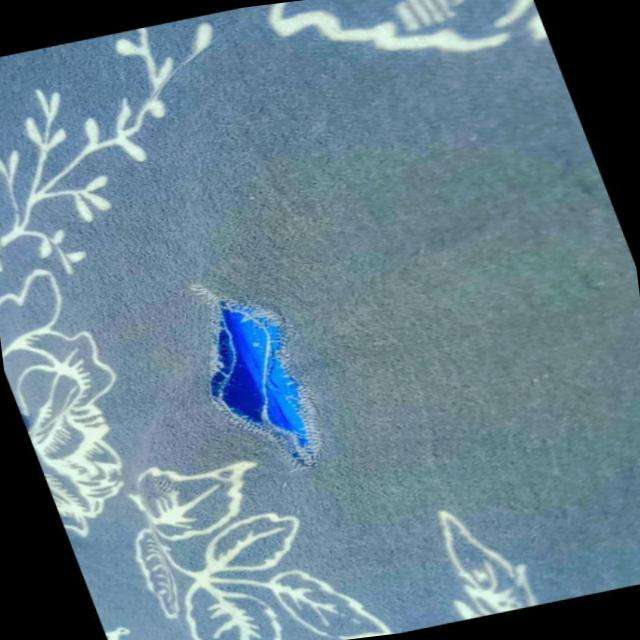cut: (164, 271, 350, 487)
